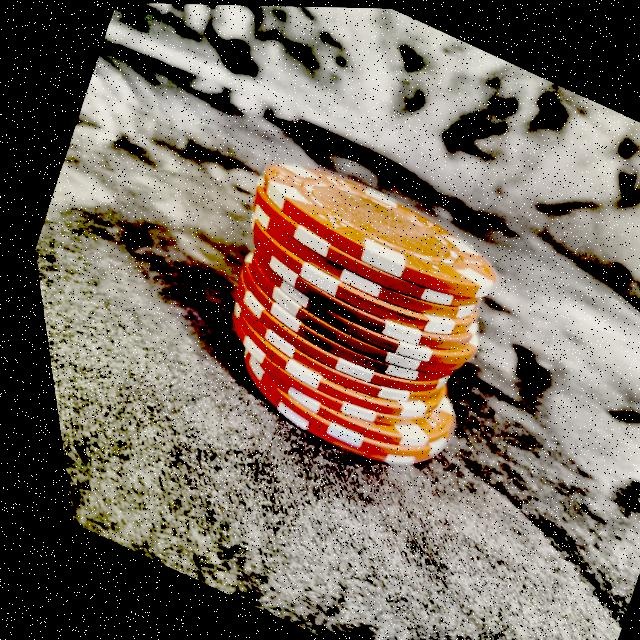Chip: (129, 120, 556, 507)
